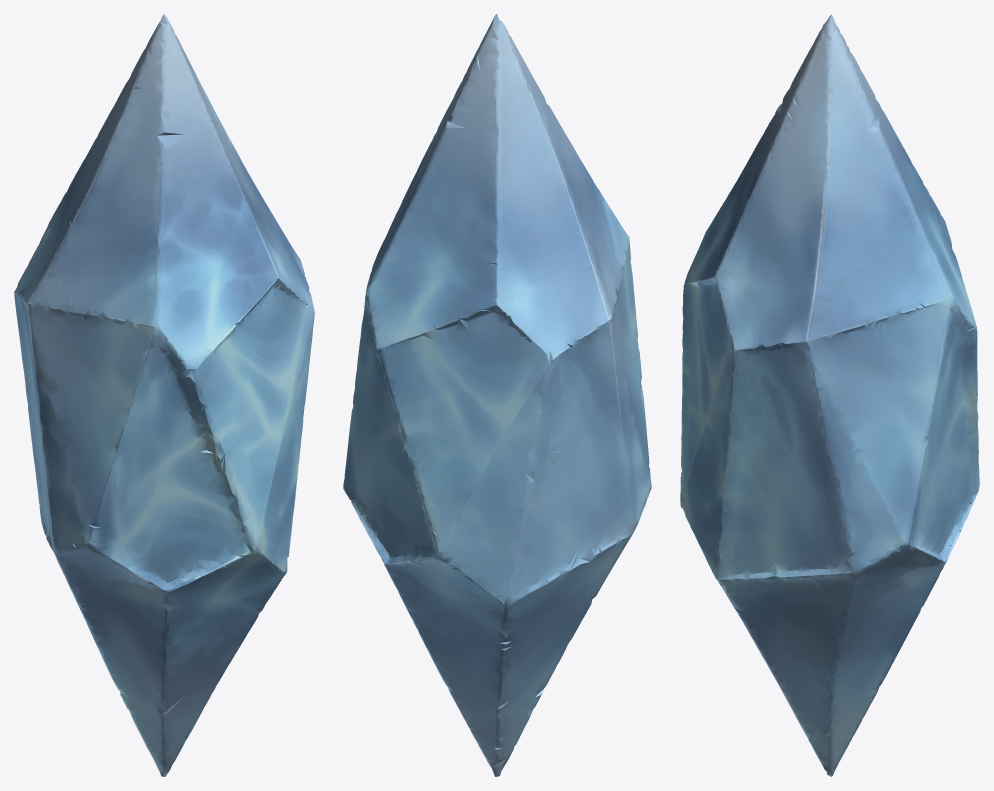
The model's file is cristal.glb.
3 renders of one model, left to right at view 1: azimuth 30°, elevation 25°; view 2: azimuth 150°, elevation 25°; view 3: azimuth 270°, elevation 25°, orthographic.
Size of the model in its own units: 0.3341 by 0.9765 by 0.3474.
Materials: 1 (1 with a texture image).
